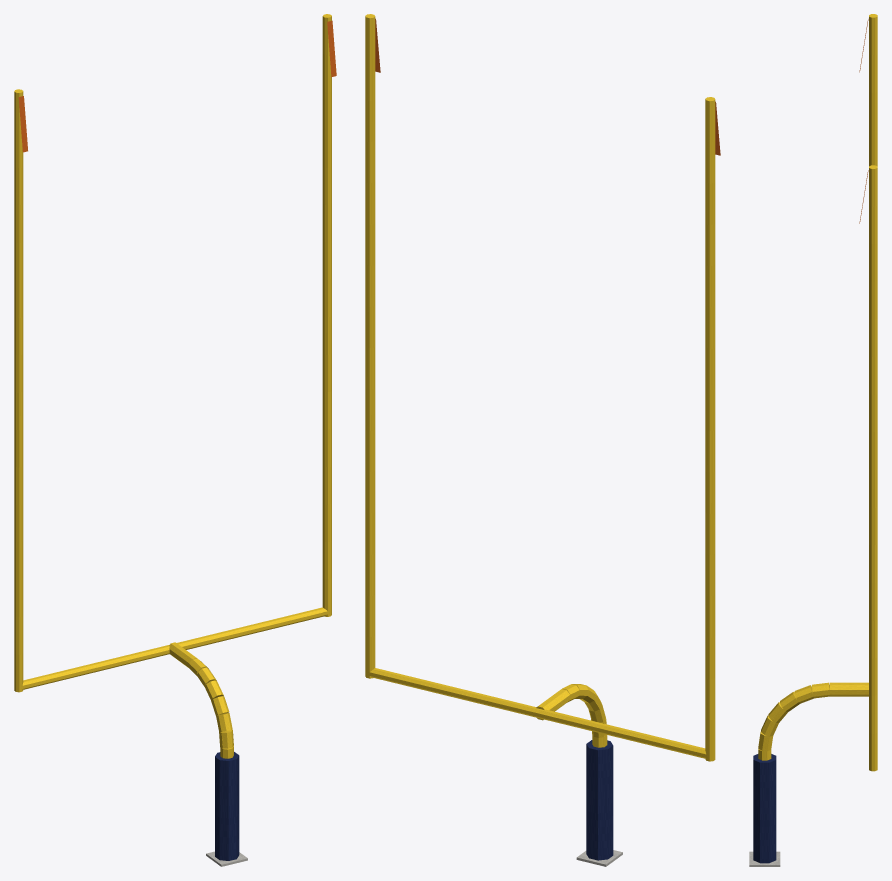
The model's file is goal_post.obj.
3 renders of one model, left to right at view 1: azimuth 30°, elevation 25°; view 2: azimuth 150°, elevation 25°; view 3: azimuth 270°, elevation 25°, orthographic. The views are drawn at different scales.
Visible parts, largest first — view 1: goal_post; view 2: goal_post; view 3: goal_post.
Part boxes in pixels (left/top/right/bottom): goal_post: left=14, top=14, right=336, bottom=866; goal_post: left=365, top=14, right=720, bottom=866; goal_post: left=749, top=14, right=877, bottom=866.
Size of the model in its own units: 5.93 by 13.72 by 2.07.
